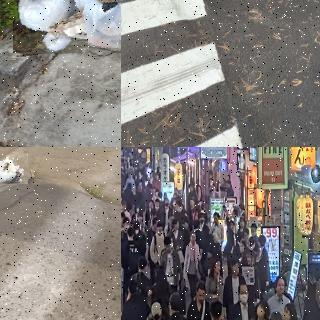Garbage: (9, 0, 85, 55), (68, 0, 121, 53), (0, 147, 30, 187)
